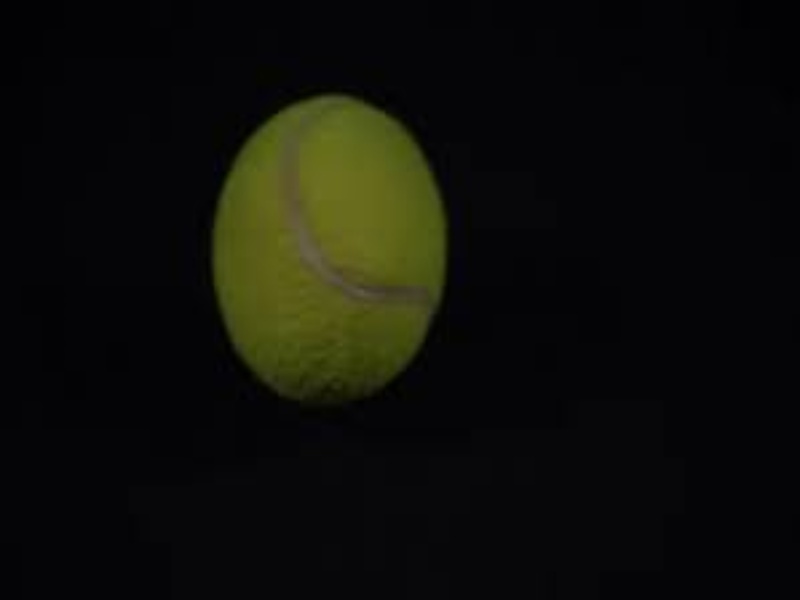tennis ball: (217, 92, 446, 406)
